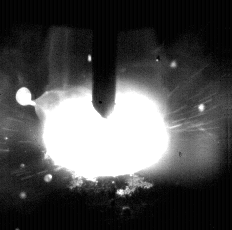arame: (93, 0, 117, 118)
poca: (42, 0, 170, 230)
